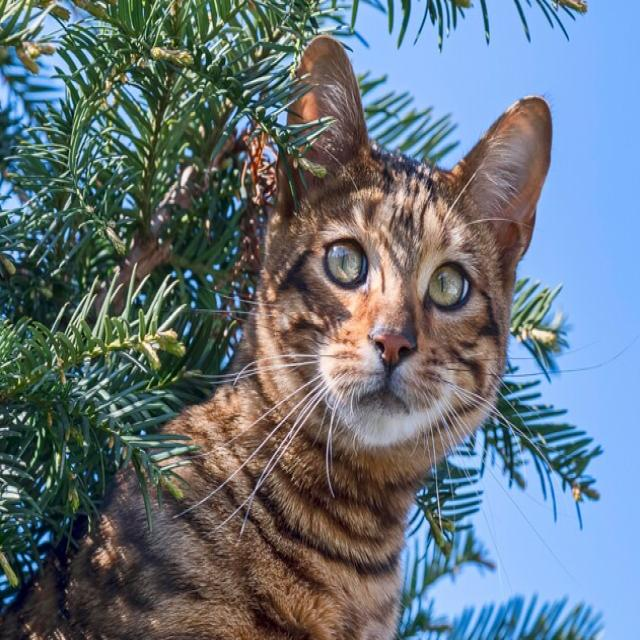Toyger: (0, 29, 559, 640)
